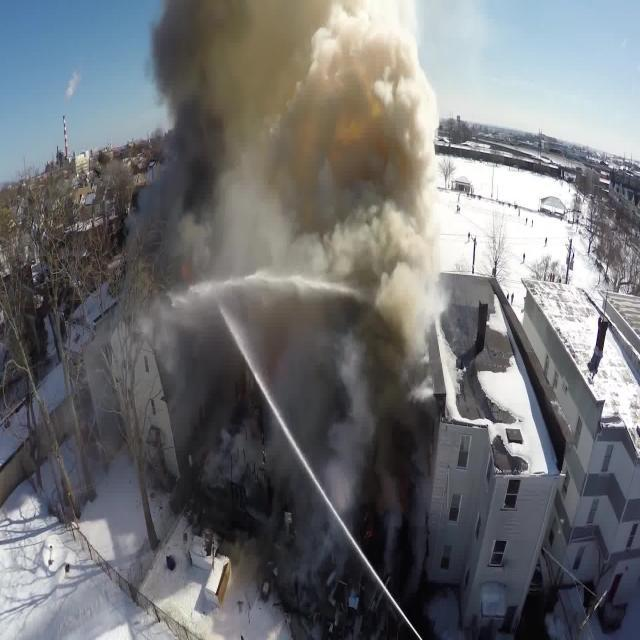Smoke: (120, 26, 435, 352), (378, 0, 452, 359)
